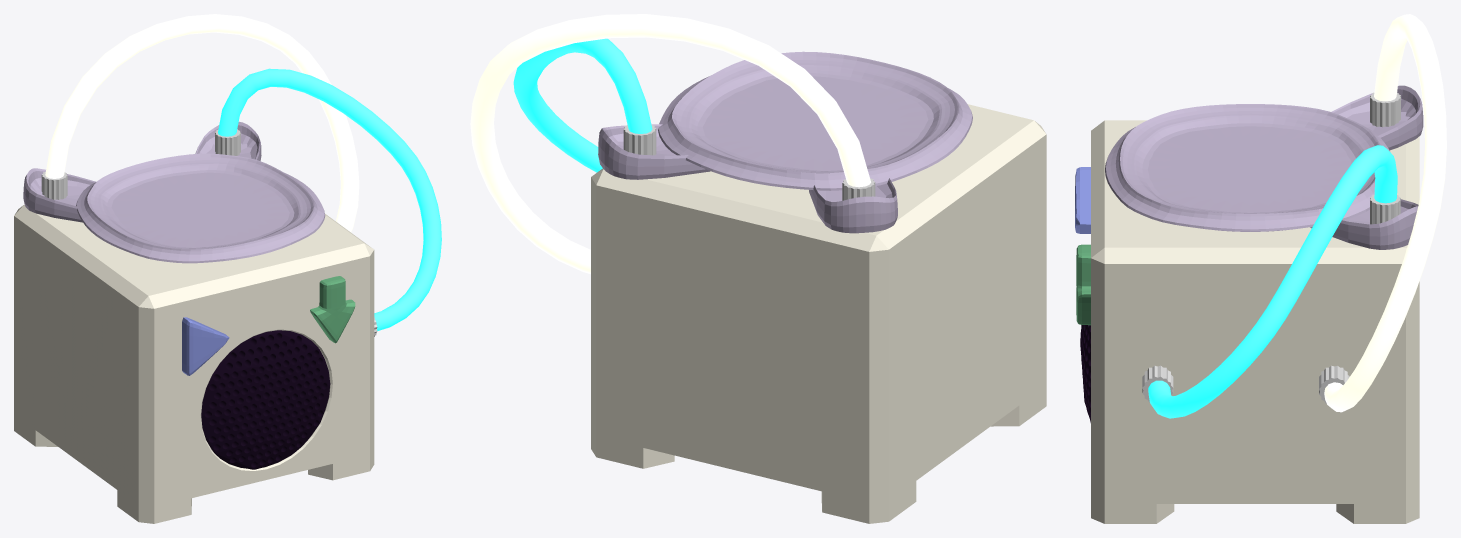
File: interpreter-machine.gltf
3 views of the same model, side by side, from view 1: azimuth 30°, elevation 25°; view 2: azimuth 150°, elevation 25°; view 3: azimuth 270°, elevation 25° (orthographic). The views are drawn at different scales.
Parts seen in each view (by area): view 1: main body, plate, speaker grill, green tube, blue tube, right plate tube reciever.001, download button, play button, right plate tube reciever, green tube plate fitting, blue tube plate fitting; view 2: main body, plate, green tube, blue tube, right plate tube reciever.001, right plate tube reciever, blue tube plate fitting; view 3: main body, plate, green tube, blue tube, right plate tube reciever, right plate tube reciever.001, download button, play button, green tube plate fitting, speaker grill, blue tube plate fitting, blue tube body fitting (+1 smaller).
Boxes of the visible parts, x1,y1,x2,y2 form: main body: (14,204,374,523); plate: (76,153,325,263); speaker grill: (201,330,330,469); green tube: (45,14,359,232); blue tube: (218,68,441,330); right plate tube reciever.001: (23,168,96,222); download button: (310,276,355,343); play button: (182,317,229,375); right plate tube reciever: (195,121,261,160); green tube plate fitting: (41,171,67,199); blue tube plate fitting: (215,129,240,155); main body: (591,104,1046,523); plate: (658,51,972,190); green tube: (470,14,870,274); blue tube: (513,38,652,172); right plate tube reciever.001: (809,178,897,233); right plate tube reciever: (598,124,710,179); blue tube plate fitting: (623,125,656,155); main body: (1091,120,1419,523); plate: (1105,104,1390,231); green tube: (1324,14,1446,412); blue tube: (1148,145,1397,418); right plate tube reciever: (1310,199,1418,249); right plate tube reciever.001: (1331,85,1423,150); download button: (1076,244,1090,325); play button: (1075,167,1090,233); green tube plate fitting: (1370,92,1400,127); speaker grill: (1080,325,1090,422); blue tube plate fitting: (1370,194,1400,224); blue tube body fitting: (1142,365,1173,402).
Bounding box in the file's own units: 3.29 × 3.23 × 2.47.
